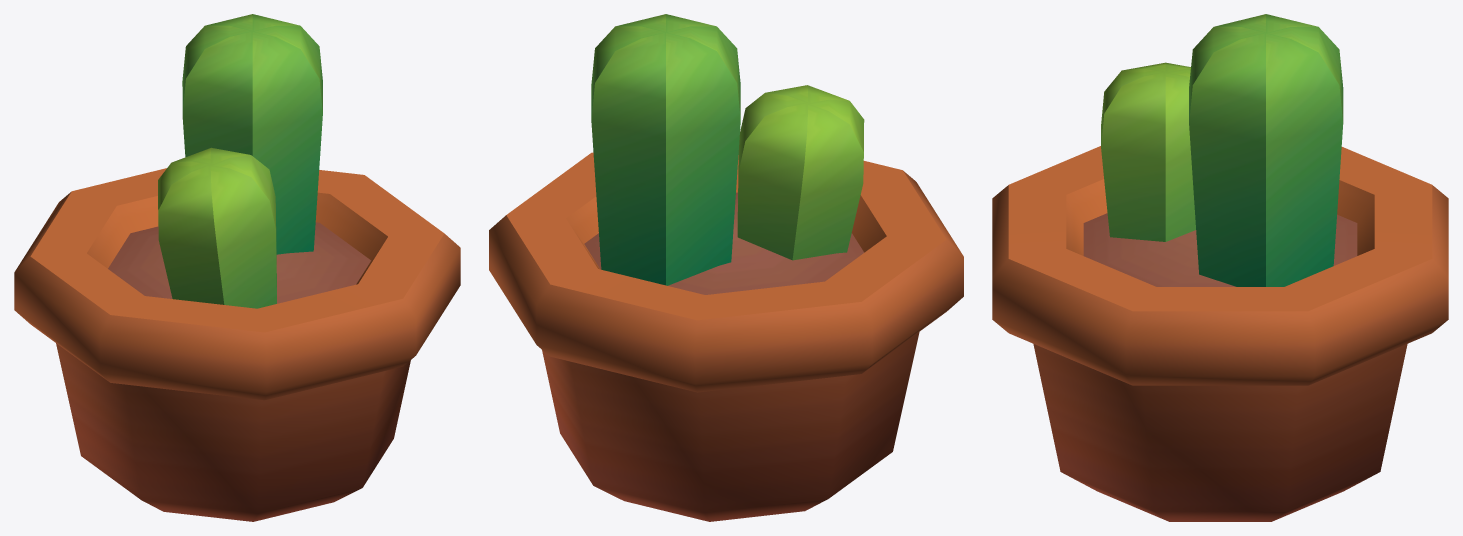
Rendered from cactus_small_A.glb.
3 renders of one model, left to right at view 1: azimuth 30°, elevation 25°; view 2: azimuth 150°, elevation 25°; view 3: azimuth 270°, elevation 25°, orthographic. The views are drawn at different scales.
Parts seen in each view (by area): view 1: cactus_small_A; view 2: cactus_small_A; view 3: cactus_small_A.
Part boxes in pixels (x1,y1,x2,y2): cactus_small_A: (14, 14, 460, 521); cactus_small_A: (489, 14, 963, 521); cactus_small_A: (992, 14, 1448, 521).
Bounding box in the file's own units: 0.5 × 0.5516 × 0.5.
Materials: 1 (1 with a texture image).
